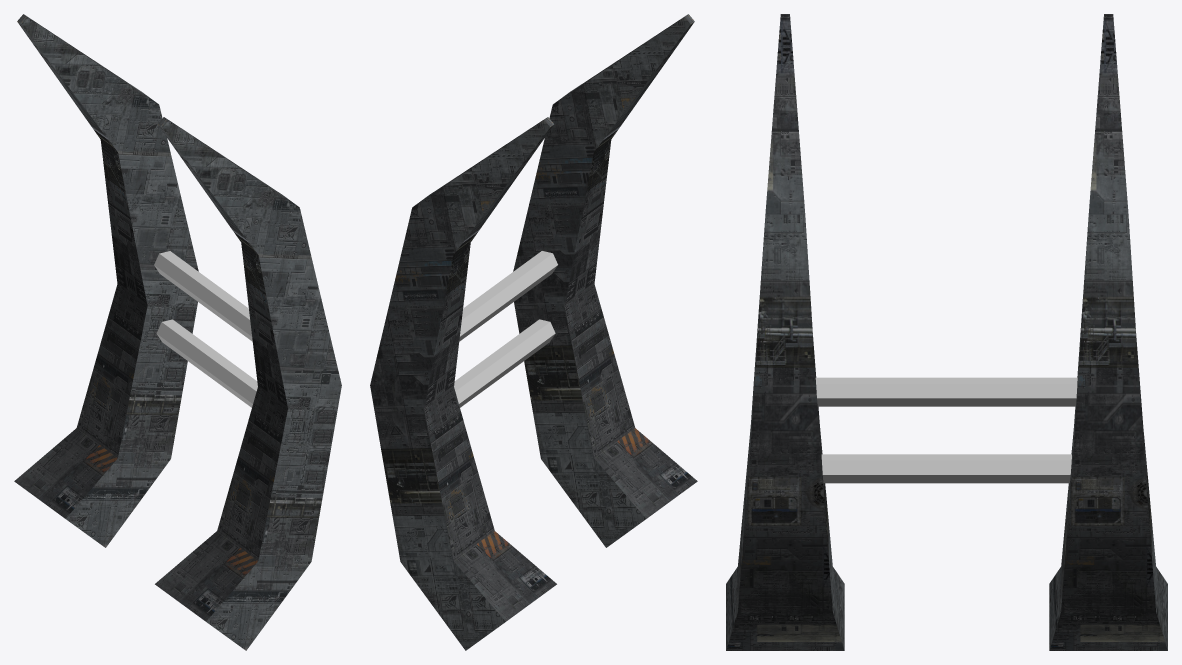
Rendered from Loop.fbx.
3 renders of one model, left to right at view 1: azimuth 30°, elevation 25°; view 2: azimuth 150°, elevation 25°; view 3: azimuth 270°, elevation 25°, orthographic. The views are drawn at different scales.
Parts seen in each view (by area): view 1: pCube11; view 2: pCube11; view 3: pCube11.
Boxes of the visible parts, bbox=[...] form: pCube11: bbox=[14, 14, 341, 650]; pCube11: bbox=[370, 14, 697, 650]; pCube11: bbox=[726, 14, 1167, 650].
Size of the model in its own units: 3.06 by 9.2 by 6.07.
